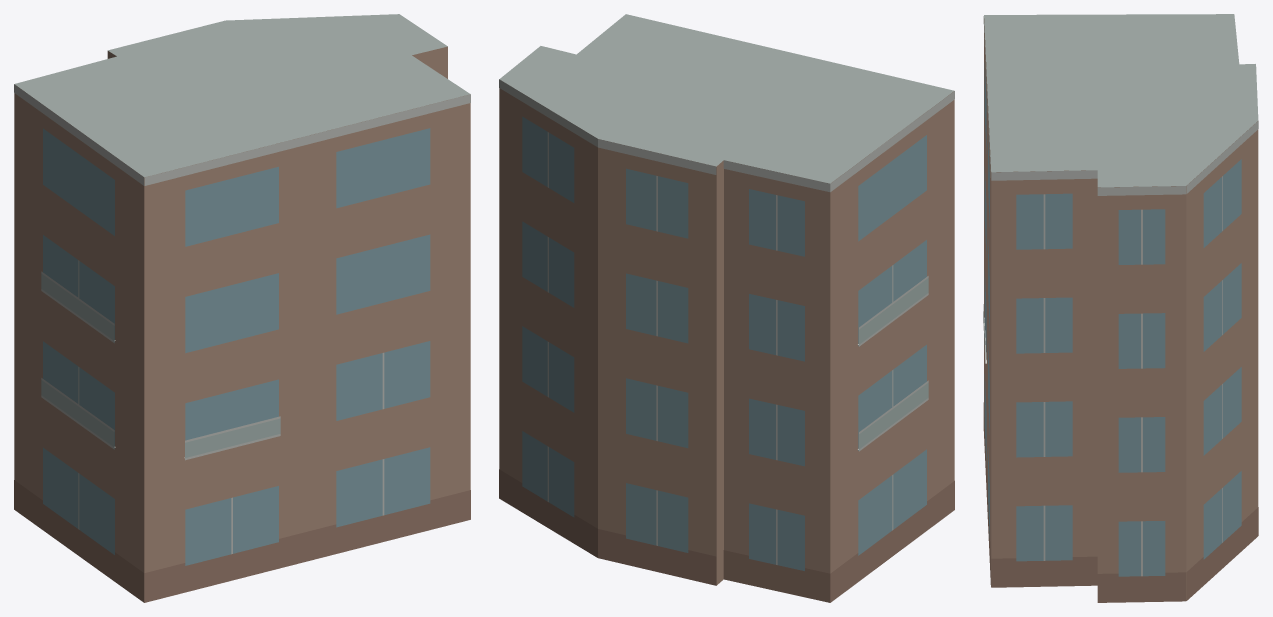
The model's file is survey-upis-32877108.glb.
3 views of the same model, side by side, from view 1: azimuth 30°, elevation 25°; view 2: azimuth 150°, elevation 25°; view 3: azimuth 270°, elevation 25° (orthographic). The views are drawn at different scales.
Visible parts, largest first — view 1: survey-upis-32877108.tmp; view 2: survey-upis-32877108.tmp; view 3: survey-upis-32877108.tmp.
Boxes of the visible parts, x1,y1,x2,y2 form: survey-upis-32877108.tmp: (14,14,470,602); survey-upis-32877108.tmp: (499,14,954,602); survey-upis-32877108.tmp: (983,14,1258,602).
Bounding box in the file's own units: 10.61 × 11.82 × 7.1.
